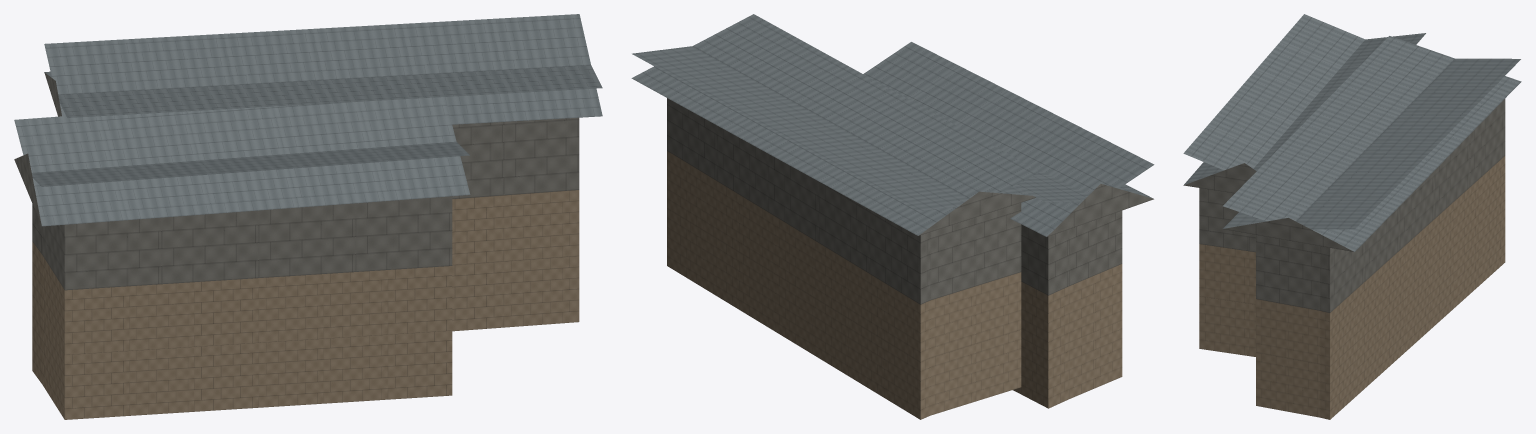
File: bld_c10_41_503.gltf
3 views of the same model, side by side, from view 1: azimuth 30°, elevation 25°; view 2: azimuth 150°, elevation 25°; view 3: azimuth 270°, elevation 25° (orthographic). The views are drawn at different scales.
Visible parts, largest first — view 1: bld_c10_41_503; view 2: bld_c10_41_503; view 3: bld_c10_41_503.
Boxes of the visible parts, x1,y1,x2,y2 form: bld_c10_41_503: (14,14,602,419); bld_c10_41_503: (631,14,1154,419); bld_c10_41_503: (1183,14,1521,419).
Size of the model in its own units: 21.1 by 9.1 by 13.44.
4 materials, 4 textured.
